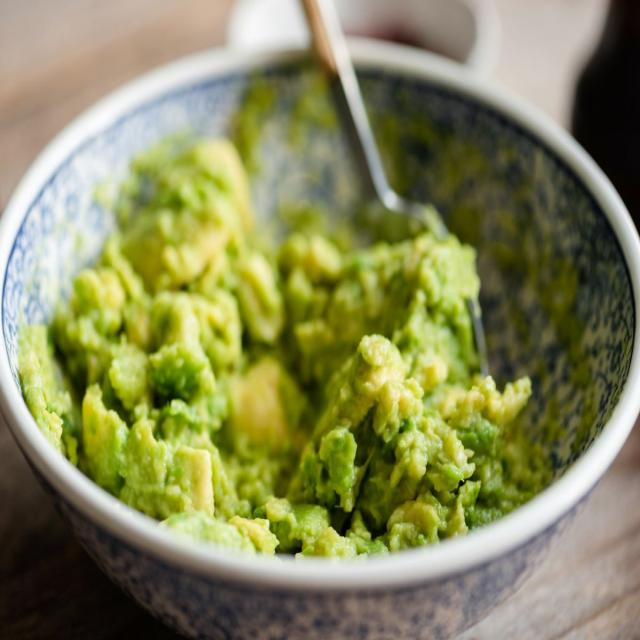aguacate: (20, 93, 614, 570)
